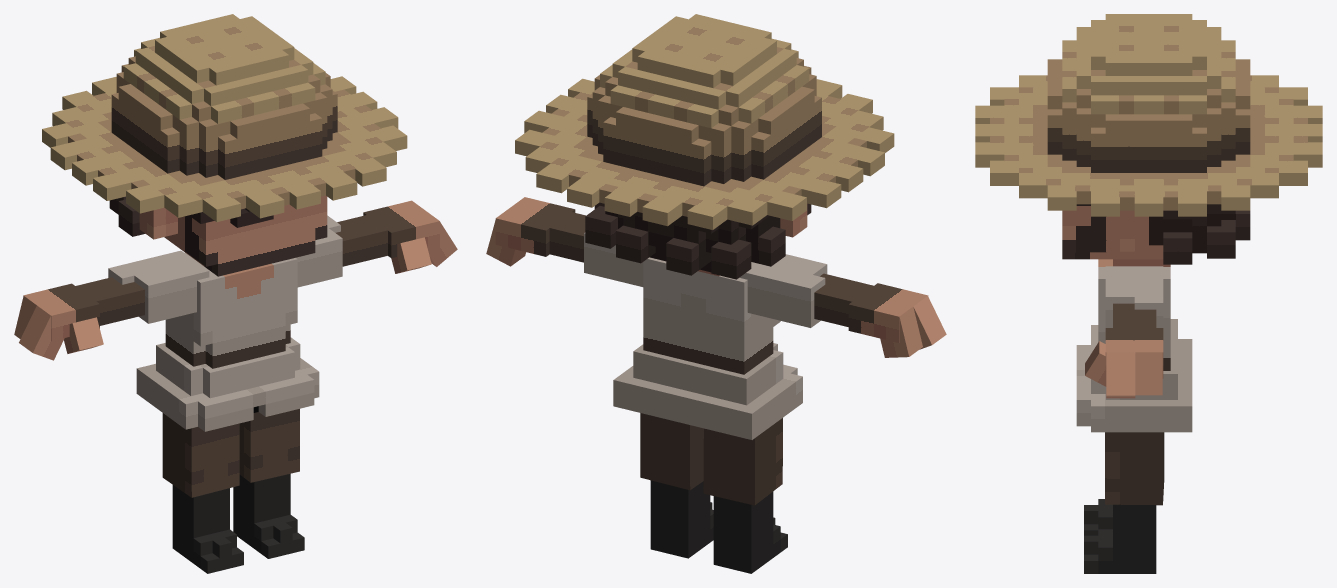
Rendered from Farmer_03.gltf.
3 views of the same model, side by side, from view 1: azimuth 30°, elevation 25°; view 2: azimuth 150°, elevation 25°; view 3: azimuth 270°, elevation 25° (orthographic). The views are drawn at different scales.
Visible parts, largest first — view 1: Model (×13); view 2: Model (×13); view 3: Model (×9).
Boxes of the visible parts, left/top/right/bottom form: Model (×13): left=14, top=14, right=457, bottom=573; Model (×13): left=486, top=14, right=946, bottom=573; Model (×9): left=975, top=14, right=1322, bottom=573.
Size of the model in its own units: 2.19 by 2.44 by 1.5.
8 materials, 8 textured.
